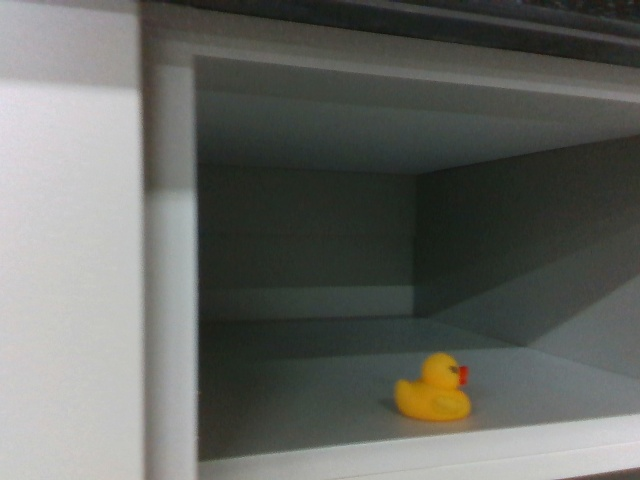duck: (392, 348, 475, 423)
